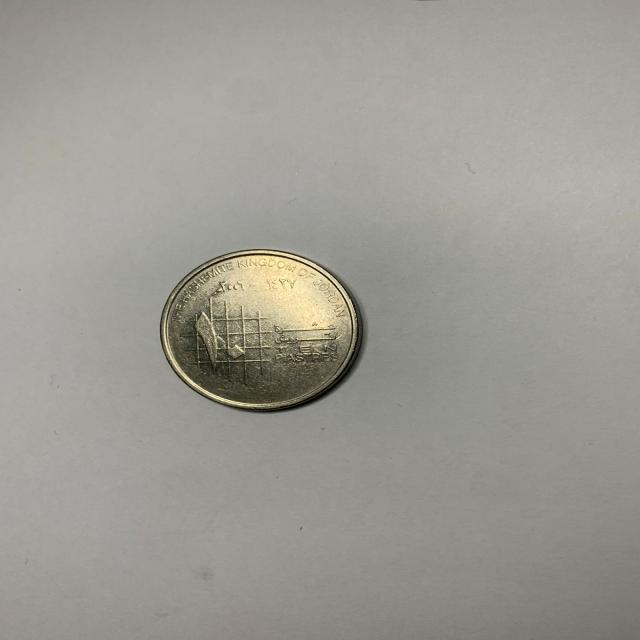10-coins: (160, 247, 363, 413)
